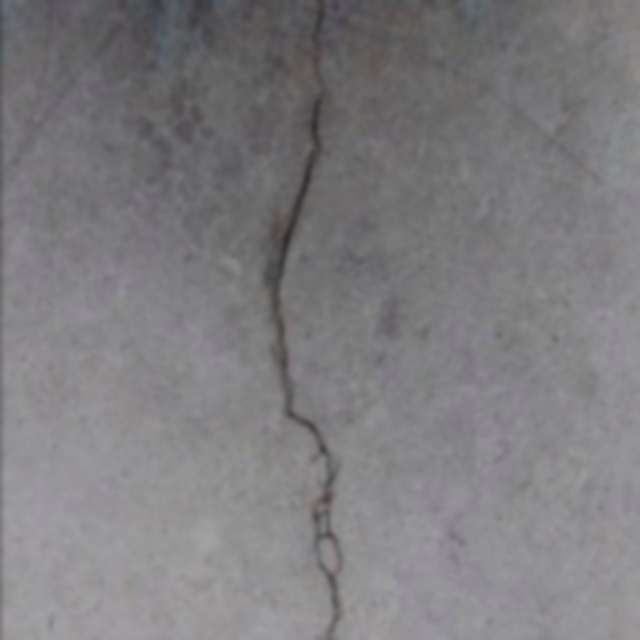SurfaceCrack: (250, 10, 368, 640)
